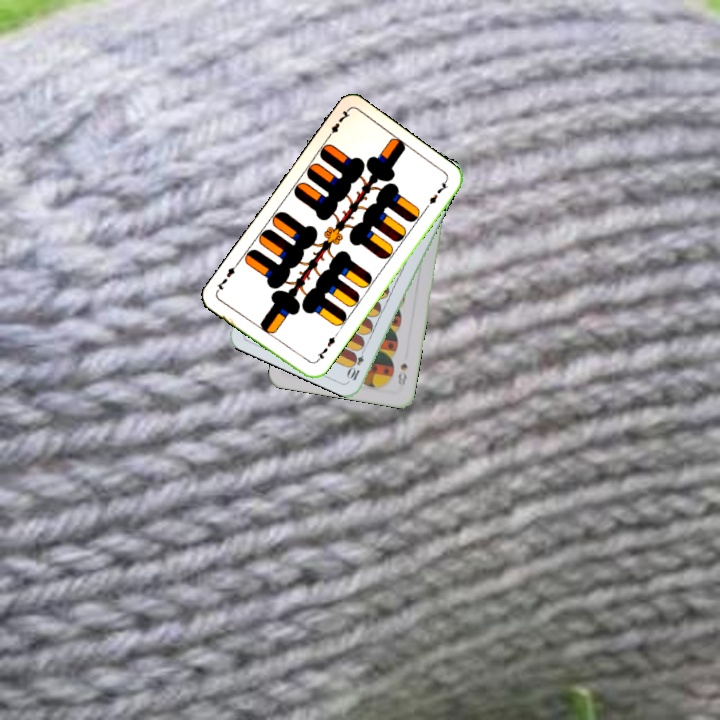E10: (344, 343, 368, 383)
E7: (323, 106, 353, 142), (310, 331, 339, 366)
S8: (394, 359, 410, 390)
